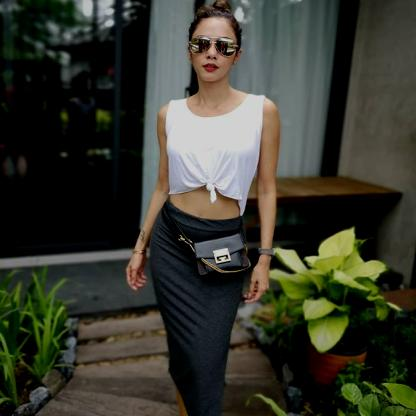dress: (145, 196, 246, 416)
jacket: (165, 93, 267, 215)
